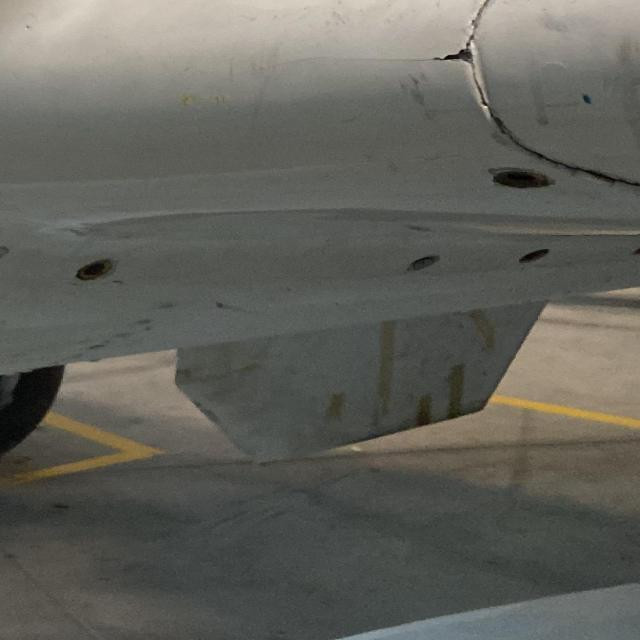Crack: (430, 42, 479, 76)
Missing-head: (494, 170, 555, 192), (74, 259, 114, 282), (520, 250, 552, 266)
